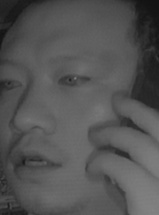eye: (58, 69, 92, 90), (2, 75, 24, 92)
mouth: (11, 141, 62, 180)
